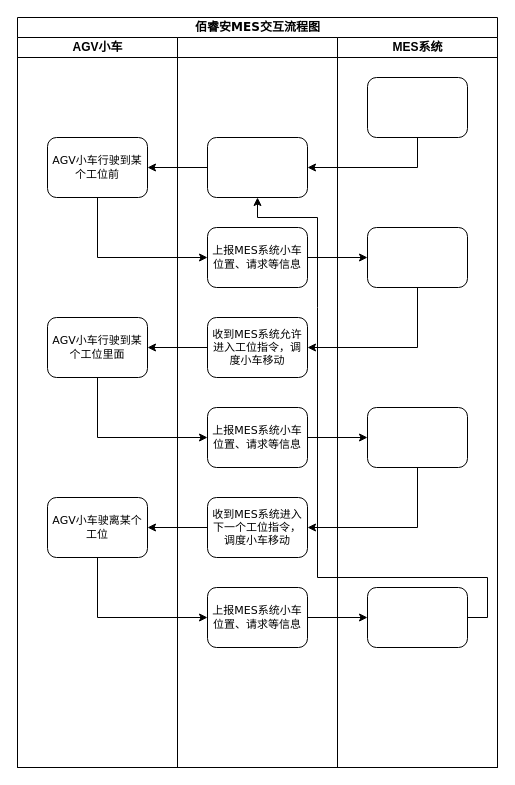
The diagram is 515 pixels wide and 785 high, and some of its shapes have lost their labels. Each missing label, with the box of its shape:
MES系统内部判定小车是否可以进入工位: (366, 226, 468, 288)
MES系统内部判定小车是否可以驶入下一个工位: (366, 406, 468, 468)
MES系统内部判定，并请求新的调度任务: (366, 586, 468, 648)
RCS调度系统: (176, 36, 338, 768)
收到调度任务指令，调度AGV小车执行任务: (206, 136, 308, 198)
通过PDA或平板下发搬运任务: (366, 76, 468, 138)
